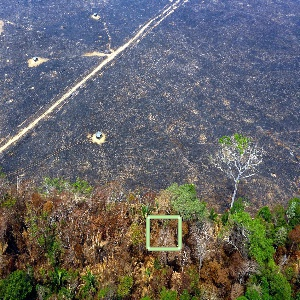square: (144, 214, 183, 252)
